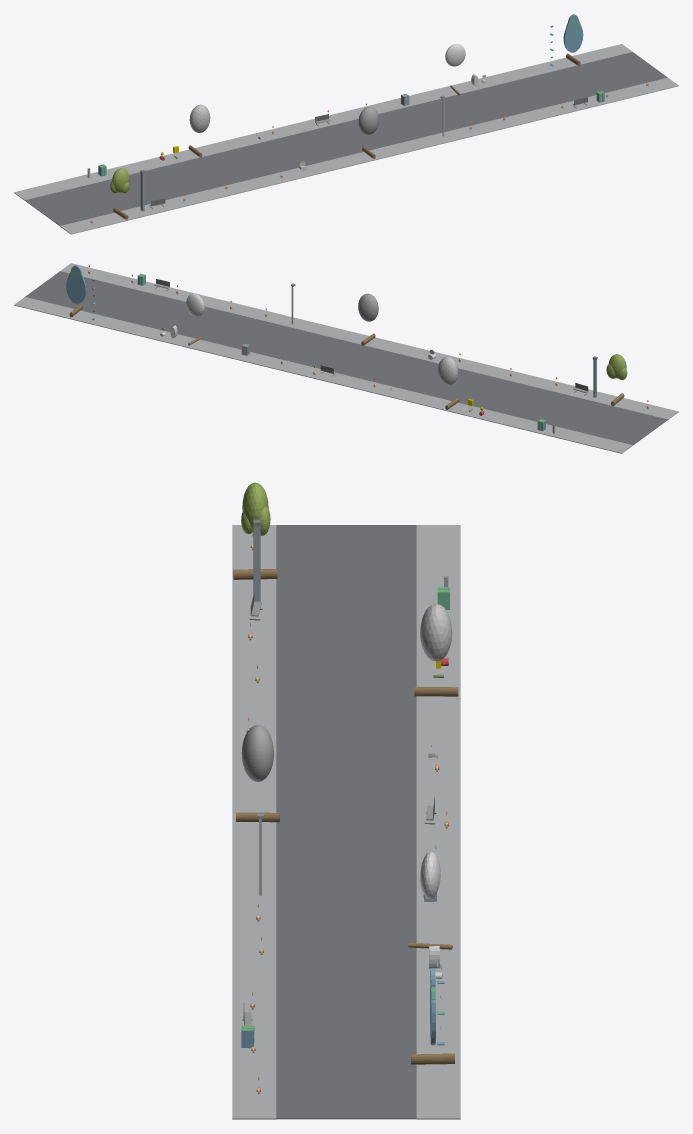
3 views of the same model, one above another, from view 1: azimuth 30°, elevation 25°; view 2: azimuth 150°, elevation 25°; view 3: azimuth 270°, elevation 25° (orthographic). The views are drawn at different scales.
Visible parts, largest first — view 1: road_slab, sidewalk_left, sidewalk_right, inst_0016, inst_0013, inst_0014, inst_0012, inst_0015; view 2: road_slab, sidewalk_right, sidewalk_left, inst_0016, inst_0013, inst_0014, inst_0012, inst_0015; view 3: road_slab, sidewalk_left, sidewalk_right, inst_0013, inst_0014, inst_0012, inst_0015, inst_0016.
Boxes of the visible parts, x1,y1,x2,y2 form: road_slab: [25, 52, 667, 225]; sidewalk_left: [60, 77, 678, 234]; sidewalk_right: [14, 44, 632, 200]; inst_0016: [563, 14, 583, 66]; inst_0013: [188, 104, 210, 157]; inst_0014: [358, 107, 379, 158]; inst_0012: [110, 168, 129, 219]; inst_0015: [445, 44, 465, 95]; road_slab: [25, 271, 667, 445]; sidewalk_right: [14, 297, 632, 453]; sidewalk_left: [60, 263, 678, 419]; inst_0016: [66, 265, 86, 317]; inst_0013: [438, 356, 459, 409]; inst_0014: [358, 293, 378, 345]; inst_0012: [606, 354, 627, 406]; inst_0015: [186, 293, 204, 345]; road_slab: [276, 525, 416, 1119]; sidewalk_left: [232, 525, 276, 1119]; sidewalk_right: [416, 525, 460, 1119]; inst_0013: [414, 603, 458, 696]; inst_0014: [236, 725, 279, 822]; inst_0012: [233, 482, 277, 579]; inst_0015: [408, 851, 452, 949]; inst_0016: [411, 968, 454, 1064].
Size of the model in its own units: 80 by 6.08 by 13.
